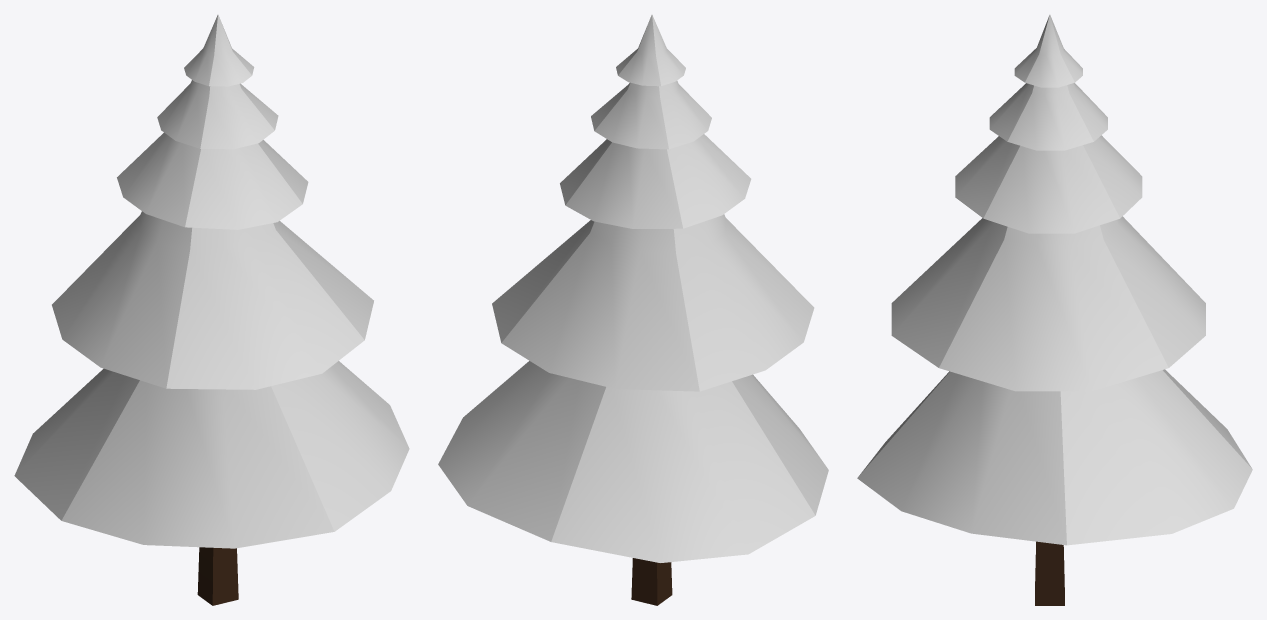
Rendered from Coni_Tree5.fbx.
The picture shows the model from 3 angles, left to right: view 1: azimuth 30°, elevation 25°; view 2: azimuth 150°, elevation 25°; view 3: azimuth 270°, elevation 25°; orthographic projection.
Visible parts, largest first — view 1: Coni_Tree5_Leaves003, Coni_Tree5_Leaves004, Coni_Tree5_Leaves002, Coni_Tree5_Leaves001, Coni_Tree5_Leaves000, Coni_Tree5; view 2: Coni_Tree5_Leaves003, Coni_Tree5_Leaves004, Coni_Tree5_Leaves002, Coni_Tree5_Leaves001, Coni_Tree5_Leaves000, Coni_Tree5; view 3: Coni_Tree5_Leaves003, Coni_Tree5_Leaves004, Coni_Tree5_Leaves002, Coni_Tree5_Leaves001, Coni_Tree5_Leaves000, Coni_Tree5.
Boxes of the visible parts, <box> form: Coni_Tree5_Leaves003: <box>14,361,409,548</box>; Coni_Tree5_Leaves004: <box>52,211,373,389</box>; Coni_Tree5_Leaves002: <box>117,132,308,229</box>; Coni_Tree5_Leaves001: <box>157,80,278,149</box>; Coni_Tree5_Leaves000: <box>184,14,254,86</box>; Coni_Tree5: <box>197,547,238,605</box>; Coni_Tree5_Leaves003: <box>438,361,828,562</box>; Coni_Tree5_Leaves004: <box>492,214,814,391</box>; Coni_Tree5_Leaves002: <box>560,134,751,228</box>; Coni_Tree5_Leaves001: <box>591,81,711,149</box>; Coni_Tree5_Leaves000: <box>616,14,685,86</box>; Coni_Tree5: <box>631,558,672,605</box>; Coni_Tree5_Leaves003: <box>857,369,1252,545</box>; Coni_Tree5_Leaves004: <box>891,216,1205,391</box>; Coni_Tree5_Leaves002: <box>955,135,1142,233</box>; Coni_Tree5_Leaves001: <box>989,83,1107,150</box>; Coni_Tree5_Leaves000: <box>1014,14,1082,87</box>; Coni_Tree5: <box>1035,541,1064,605</box>.
Size of the model in its own units: 155 by 253 by 155.
